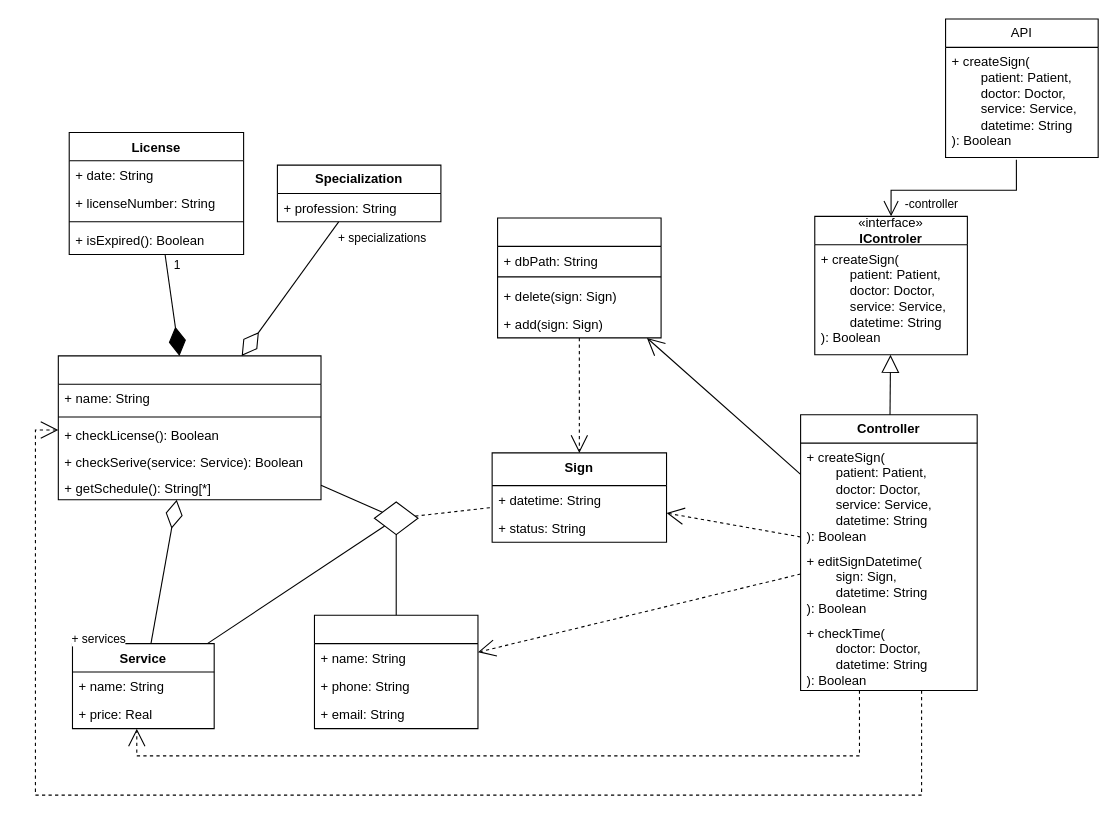
Some shapes in this 1117 by 832 pixel diagram are drawn without their labels. The box of each missing label's shape, as (x1, y1, x2, y2) in pixels:
DB: (496, 217, 661, 338)
Doctor: (57, 355, 321, 500)
Patient: (313, 614, 478, 729)
